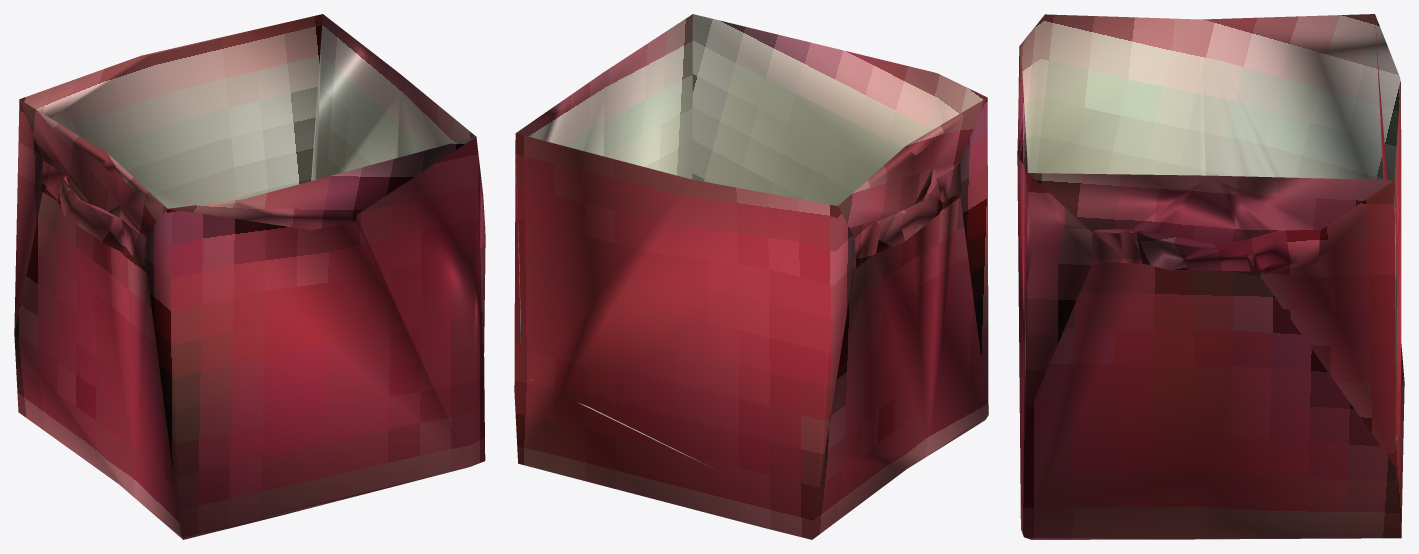
Rendered from Closetmaid_Premium_Fabric_Cube_Red-low.glb.
The picture shows the model from 3 angles, left to right: view 1: azimuth 30°, elevation 25°; view 2: azimuth 150°, elevation 25°; view 3: azimuth 270°, elevation 25°; orthographic projection. The views are drawn at different scales.
Parts seen in each view (by area): view 1: Closetmaid_Premium_Fabric_Cube_Red; view 2: Closetmaid_Premium_Fabric_Cube_Red; view 3: Closetmaid_Premium_Fabric_Cube_Red.
Boxes of the visible parts, <box> form: Closetmaid_Premium_Fabric_Cube_Red: <box>14,14,485,539</box>; Closetmaid_Premium_Fabric_Cube_Red: <box>514,14,988,539</box>; Closetmaid_Premium_Fabric_Cube_Red: <box>1017,14,1404,539</box>.
Bounding box in the file's own units: 0.315 × 0.2841 × 0.2695.
1 material, 1 textured.
